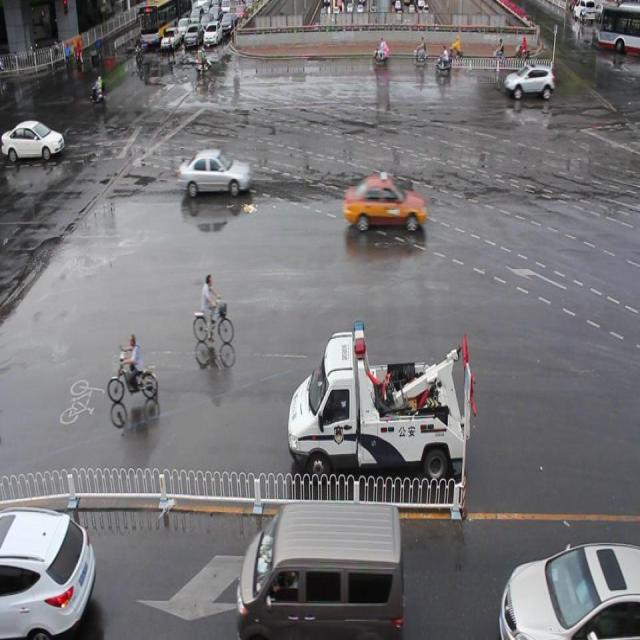bus: (289, 308, 475, 475)
car: (498, 540, 640, 640), (1, 506, 97, 640), (342, 172, 426, 232), (178, 146, 250, 198), (503, 61, 554, 100)
truck: (235, 496, 401, 640)
